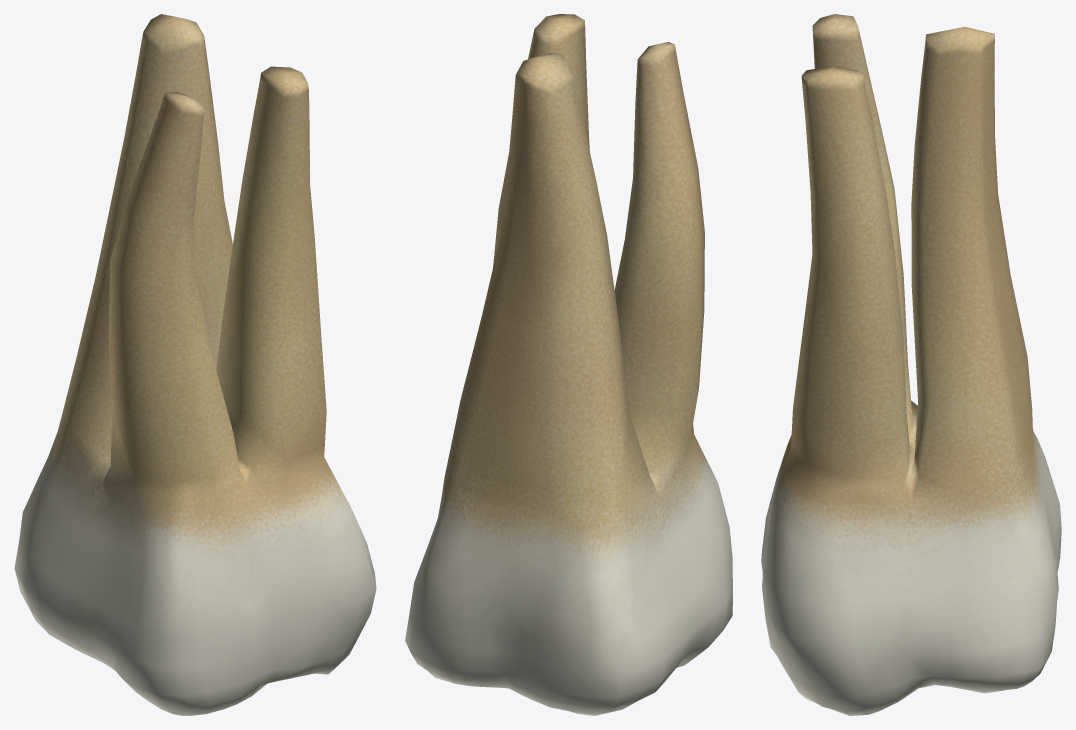
File: Human Teeth Upper First Molar.gltf
3 renders of one model, left to right at view 1: azimuth 30°, elevation 25°; view 2: azimuth 150°, elevation 25°; view 3: azimuth 270°, elevation 25°, orthographic. The views are drawn at different scales.
Parts seen in each view (by area): view 1: Human_Teeth_Upper_First_Molar_Geo; view 2: Human_Teeth_Upper_First_Molar_Geo; view 3: Human_Teeth_Upper_First_Molar_Geo.
Part boxes in pixels (left/top/right/bottom): Human_Teeth_Upper_First_Molar_Geo: left=14, top=14, right=376, bottom=715; Human_Teeth_Upper_First_Molar_Geo: left=405, top=14, right=732, bottom=715; Human_Teeth_Upper_First_Molar_Geo: left=761, top=14, right=1061, bottom=715.
Size of the model in its own units: 2.44 by 5.65 by 2.37.
Materials: 1 (1 with a texture image).
